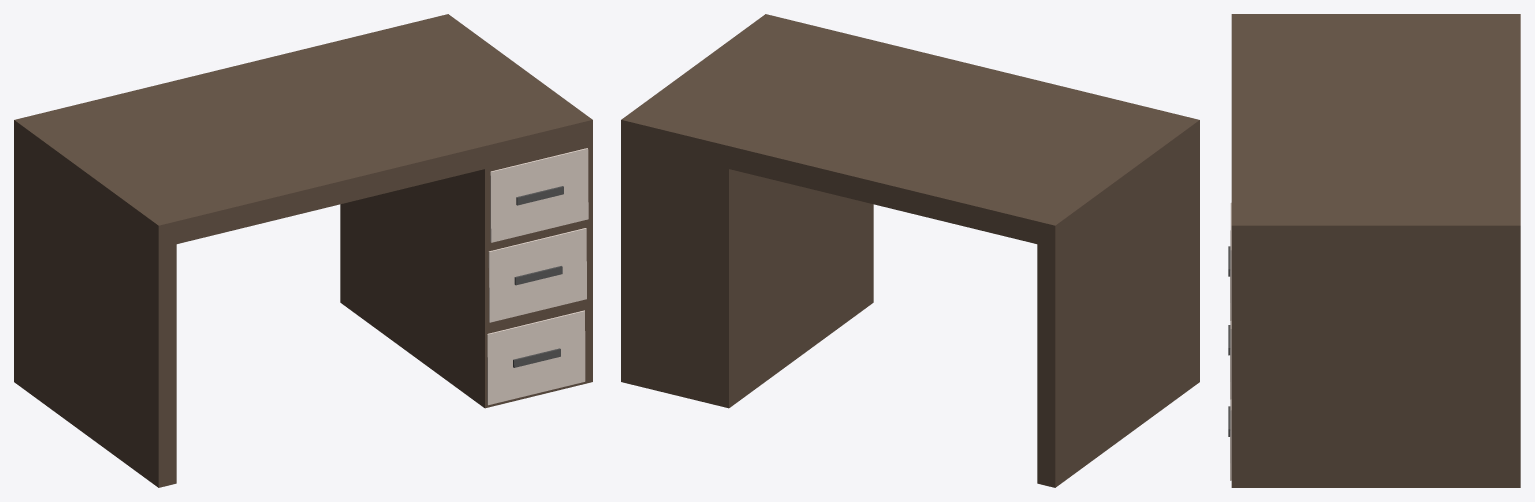
The model's file is Table_7_231109.glb.
3 renders of one model, left to right at view 1: azimuth 30°, elevation 25°; view 2: azimuth 150°, elevation 25°; view 3: azimuth 270°, elevation 25°, orthographic.
Parts seen in each view (by area): view 1: Table_7; view 2: Table_7; view 3: Table_7.
Boxes of the visible parts, x1,y1,x2,y2 form: Table_7: (14,14,592,487); Table_7: (621,14,1199,487); Table_7: (1228,14,1520,487).
Bounding box in the file's own units: 1.73 × 0.9976 × 1.01.
Materials: 1 (1 with a texture image).
